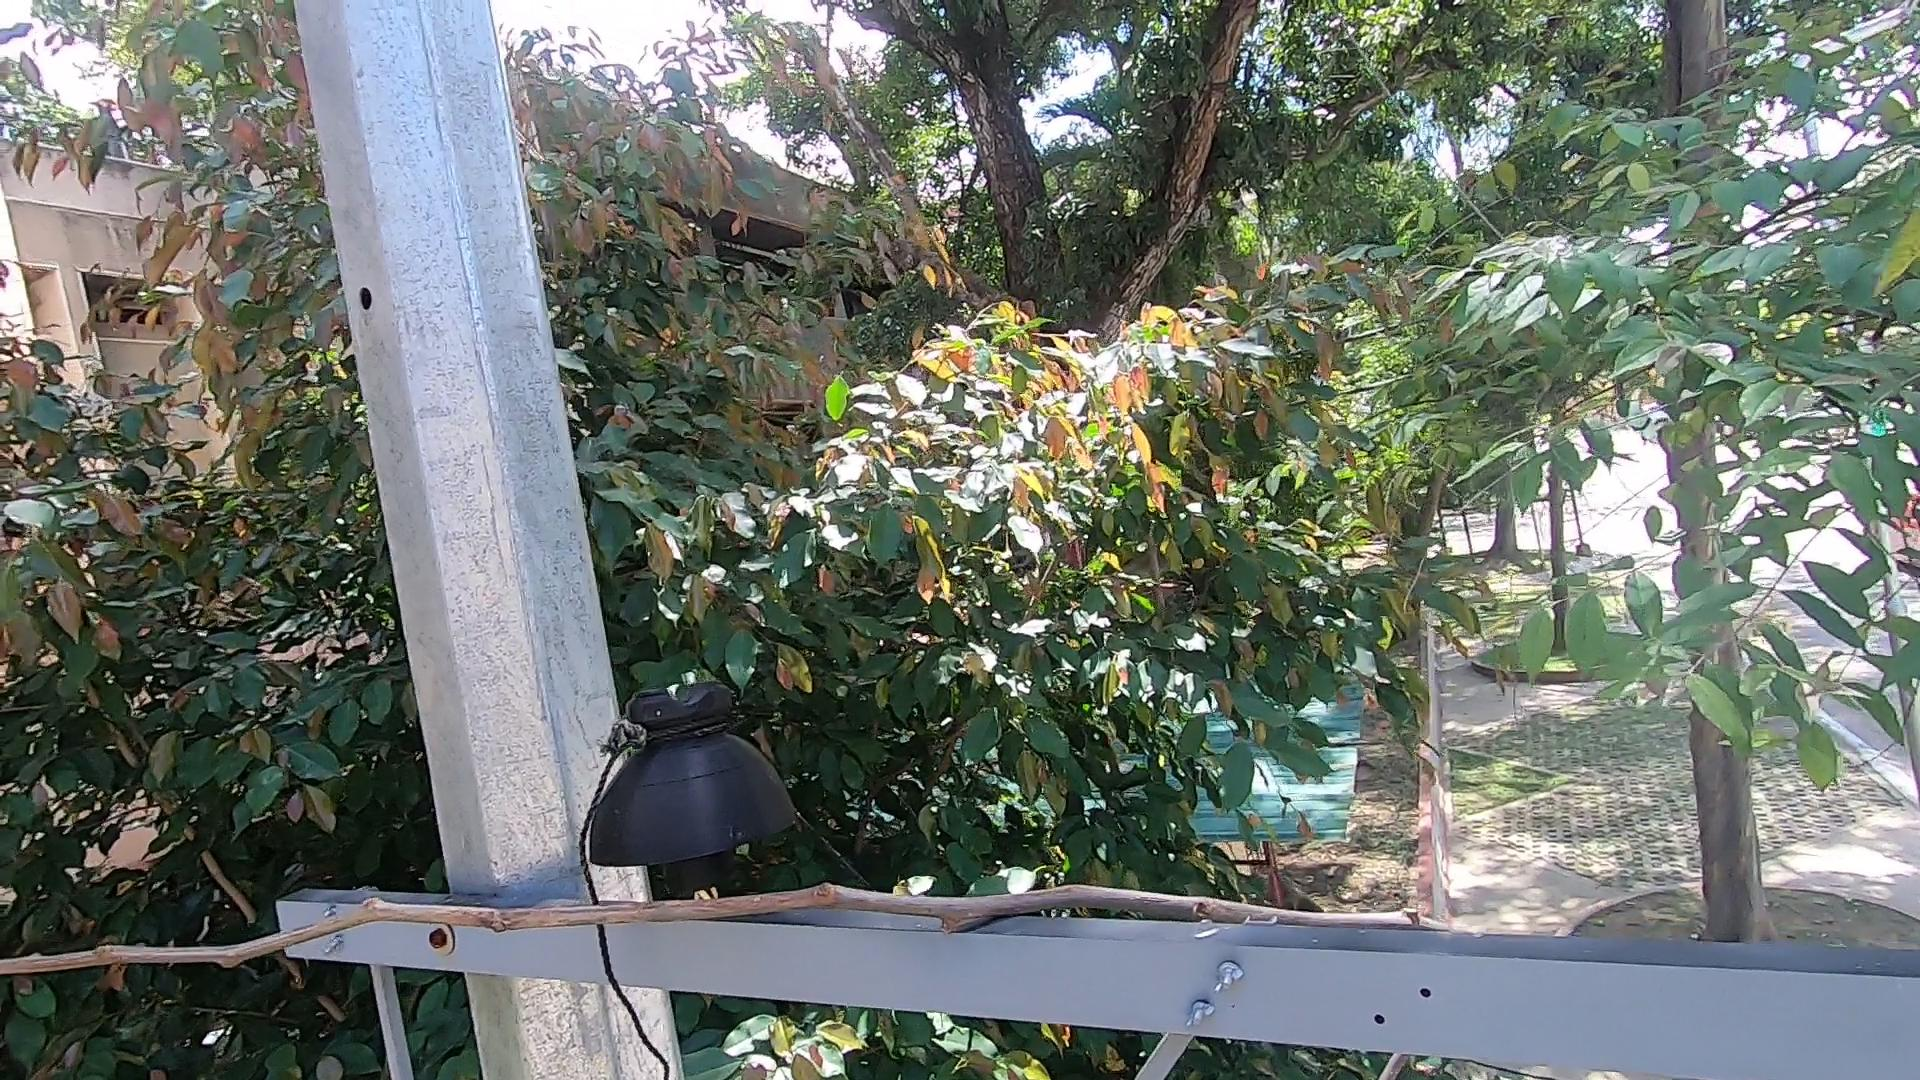tree branch: (1, 899, 1485, 1014), (1385, 1058, 1429, 1080)
